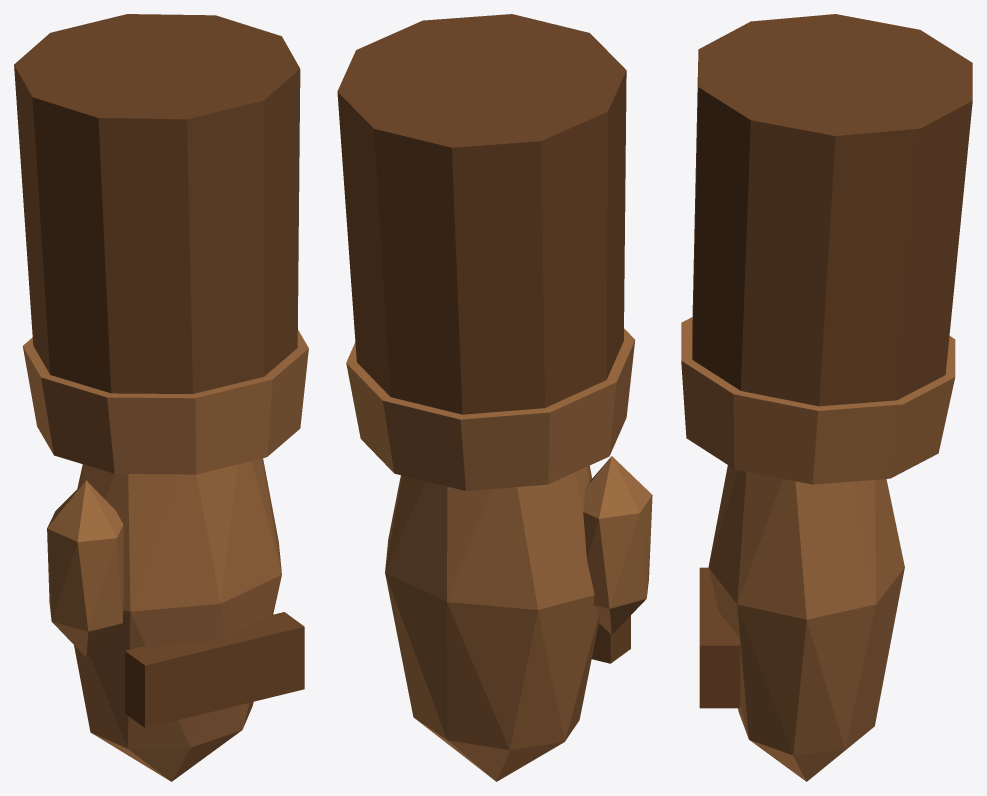
File: gear_gloves_leather_arm_l.glb
The picture shows the model from 3 angles, left to right: view 1: azimuth 30°, elevation 25°; view 2: azimuth 150°, elevation 25°; view 3: azimuth 270°, elevation 25°; orthographic projection.
Visible parts, largest first — view 1: gear_gloves_leather_arm_l; view 2: gear_gloves_leather_arm_l; view 3: gear_gloves_leather_arm_l.
Part boxes in pixels (x1,y1,x2,y2): gear_gloves_leather_arm_l: [14, 14, 308, 781]; gear_gloves_leather_arm_l: [337, 14, 652, 781]; gear_gloves_leather_arm_l: [681, 14, 972, 781].
Bounding box in the file's own units: 0.1039 × 0.2726 × 0.1009.
